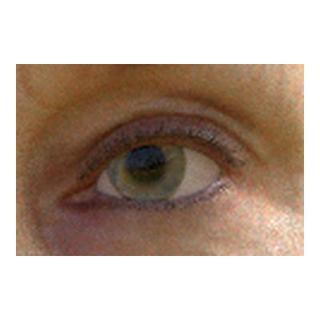pupil: (127, 144, 164, 182)
